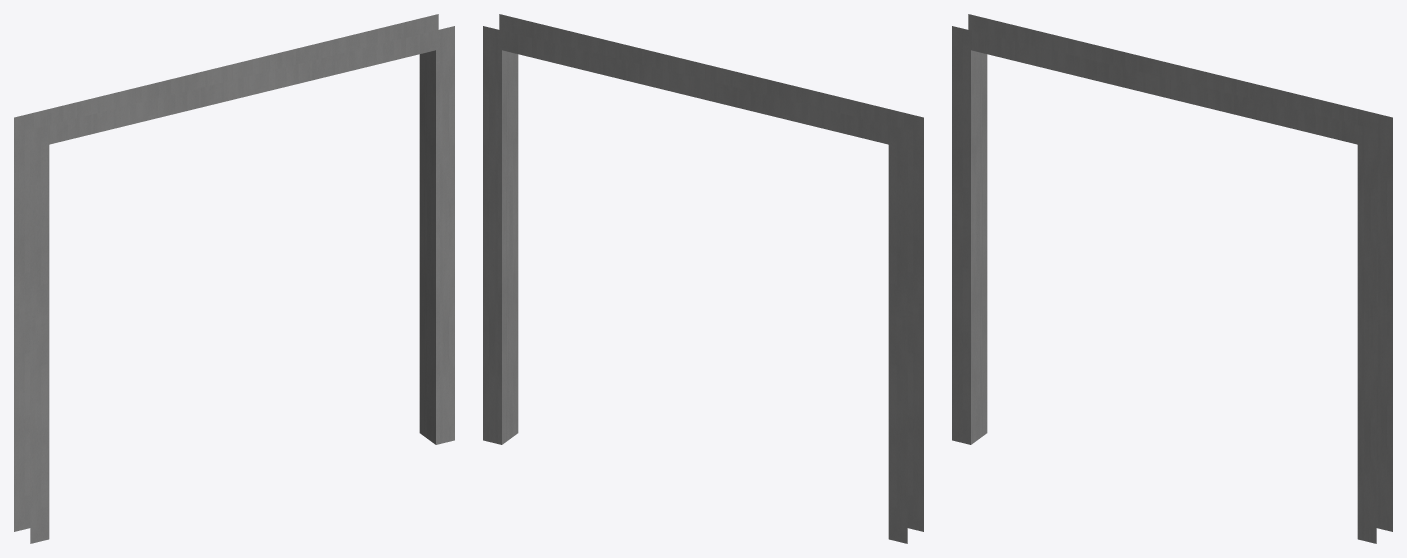
File: warehouse_doubledoor_frame.glb
3 renders of one model, left to right at view 1: azimuth 30°, elevation 25°; view 2: azimuth 150°, elevation 25°; view 3: azimuth 330°, elevation 25°, orthographic.
Visible parts, largest first — view 1: Cube.222; view 2: Cube.222; view 3: Cube.222.
Boxes of the visible parts, box(x1,y1,x2,y2) form: Cube.222: box(14, 14, 454, 543); Cube.222: box(483, 14, 923, 543); Cube.222: box(952, 14, 1392, 543).
Bounding box in the file's own units: 9 × 8.4 × 0.6.
Materials: 1 (1 with a texture image).
